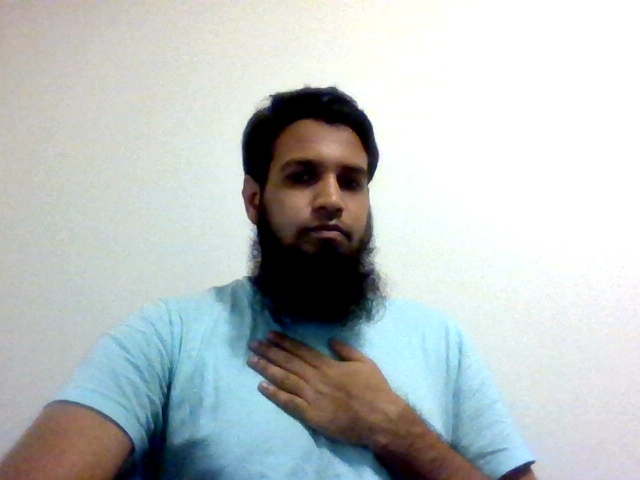please: (244, 324, 406, 451)
